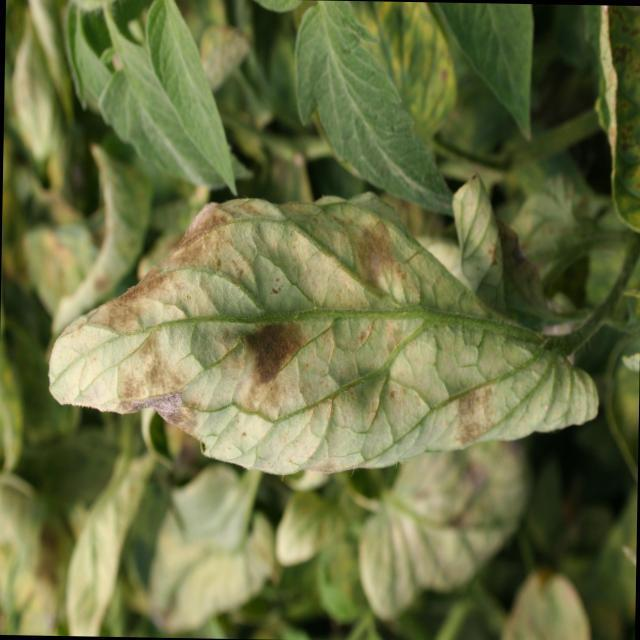Mosaic Virus: (88, 199, 500, 443)
